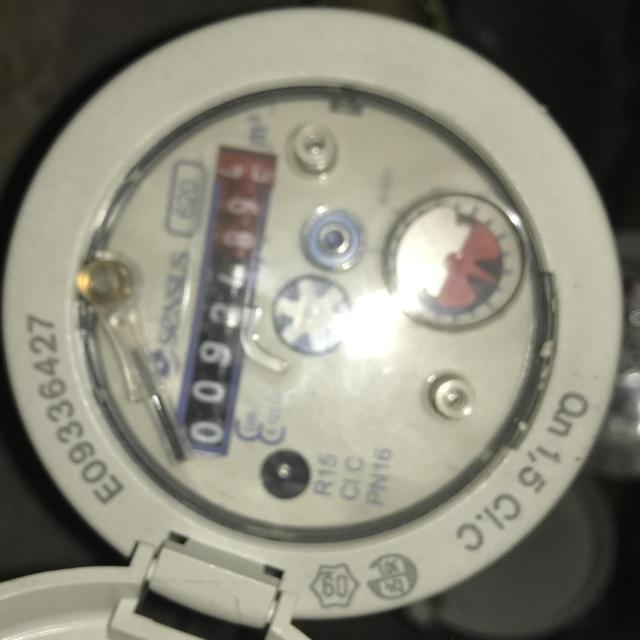gaz_meter: (92, 83, 547, 539)
indication: (167, 140, 286, 458)
